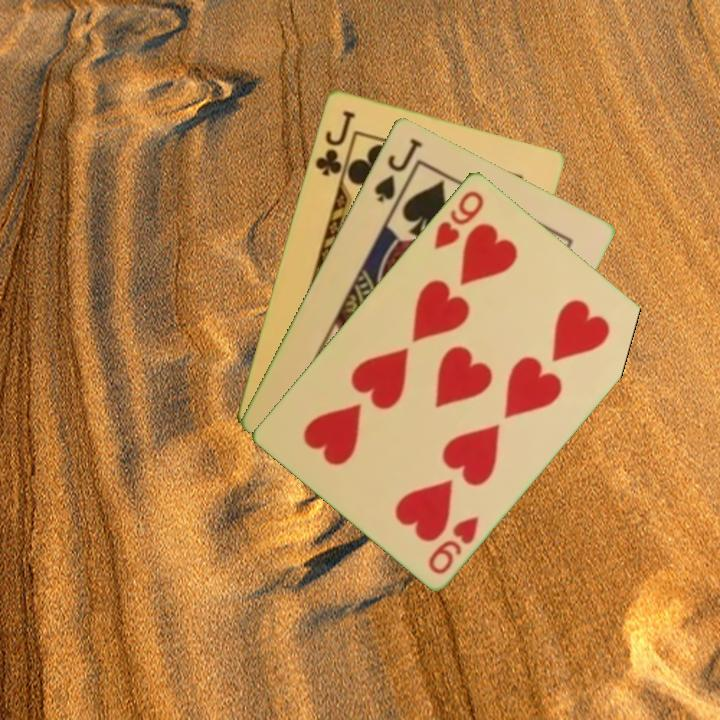9h: (424, 512, 482, 577), (430, 186, 487, 252)
Jc: (311, 106, 358, 179)
Js: (370, 134, 425, 205)
